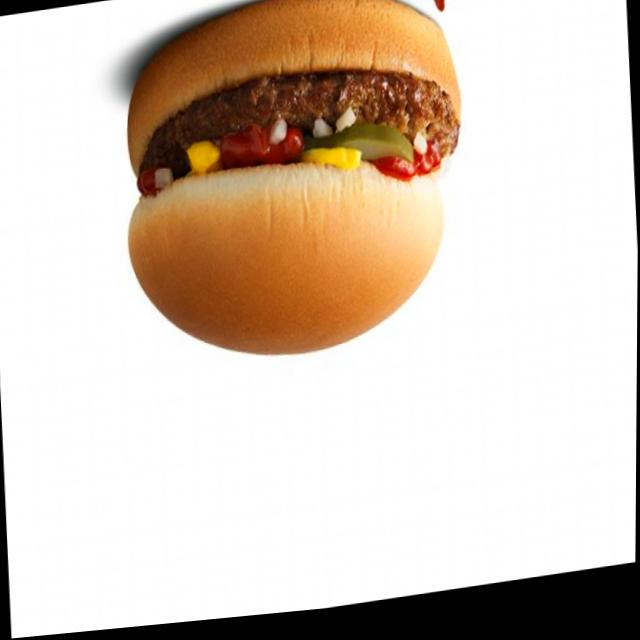burger: (116, 0, 476, 384)
